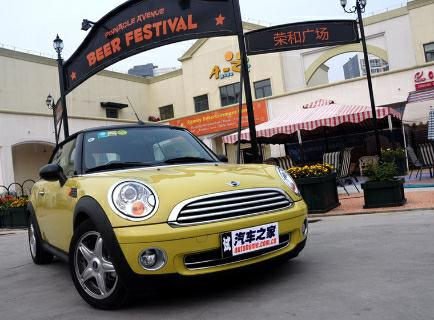MINI: (34, 121, 313, 309)
